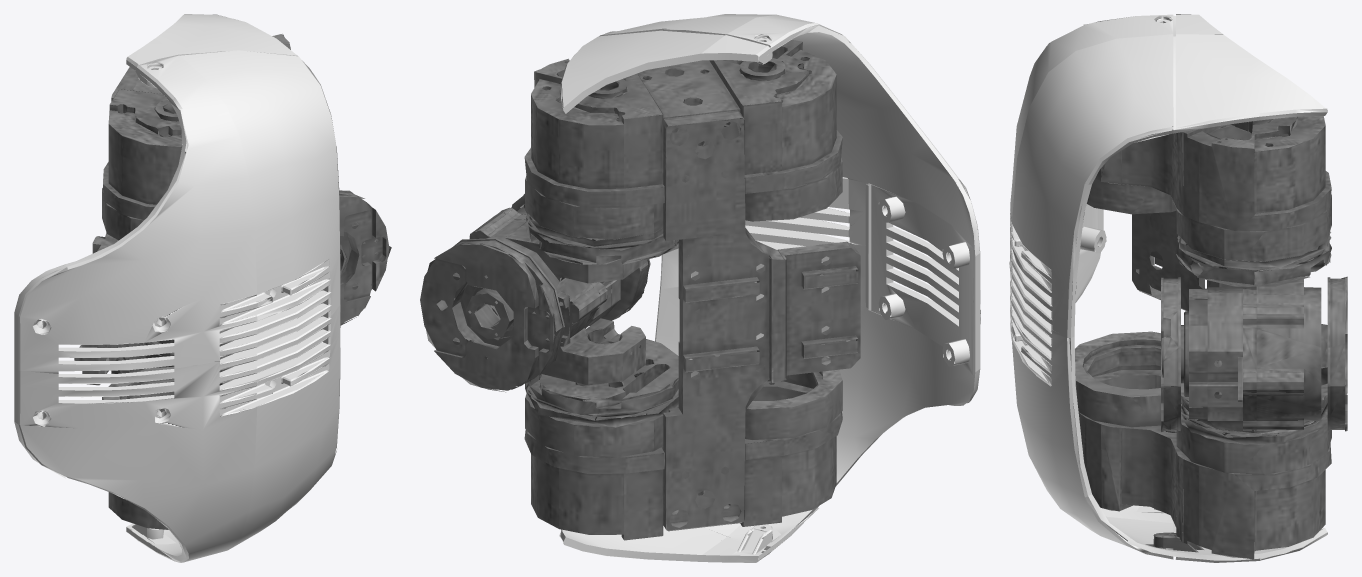
Rendered from icub_lap_belt_1.dae.
3 renders of one model, left to right at view 1: azimuth 30°, elevation 25°; view 2: azimuth 150°, elevation 25°; view 3: azimuth 270°, elevation 25°, orthographic. The views are drawn at different scales.
Visible parts, largest first — view 1: pelvis_mesh_001; view 2: pelvis_mesh_001; view 3: pelvis_mesh_001.
Boxes of the visible parts, x1,y1,x2,y2 form: pelvis_mesh_001: (14, 14, 391, 562); pelvis_mesh_001: (420, 14, 980, 562); pelvis_mesh_001: (1009, 14, 1347, 562).
Size of the model in its own units: 0.1962 by 0.136 by 0.2204.
1 material, 1 textured.
